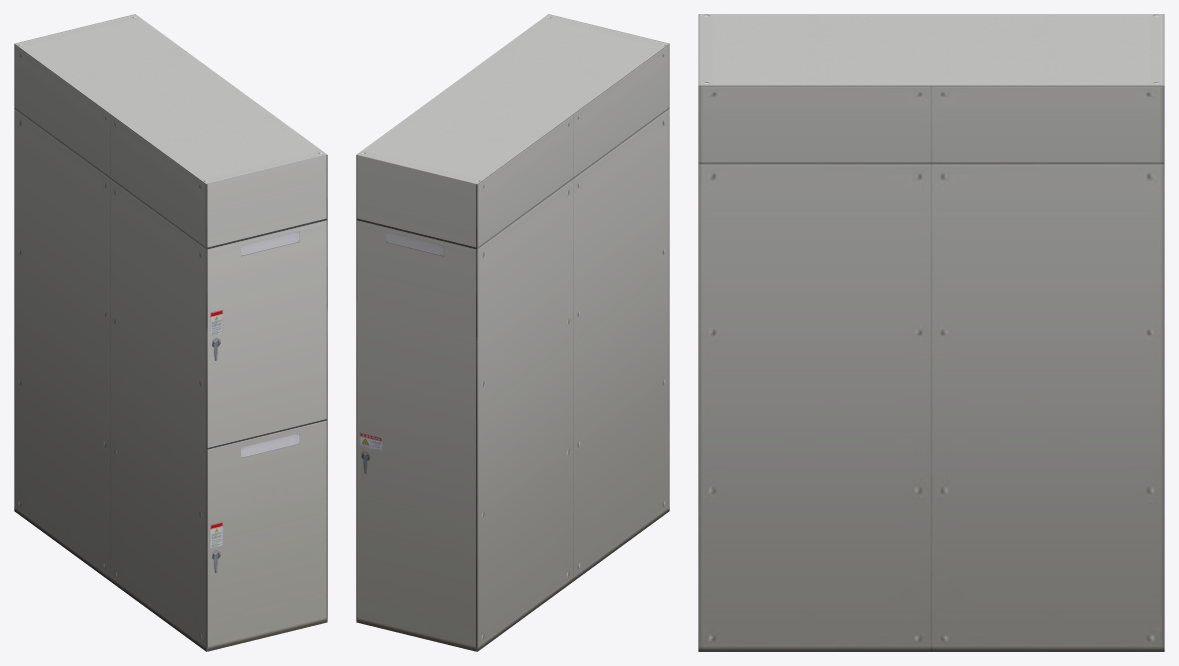
The model's file is Blank_Panel_03.gltf.
The picture shows the model from 3 angles, left to right: view 1: azimuth 30°, elevation 25°; view 2: azimuth 150°, elevation 25°; view 3: azimuth 270°, elevation 25°; orthographic projection. The views are drawn at different scales.
Visible parts, largest first — view 1: LV-F3; view 2: LV-F3; view 3: LV-F3.
Boxes of the visible parts, left/top/right/bottom form: LV-F3: left=14, top=14, right=327, bottom=651; LV-F3: left=356, top=14, right=669, bottom=651; LV-F3: left=698, top=14, right=1164, bottom=651.
Size of the model in its own units: 0.8 by 2.95 by 2.2.
1 material, 1 textured.
